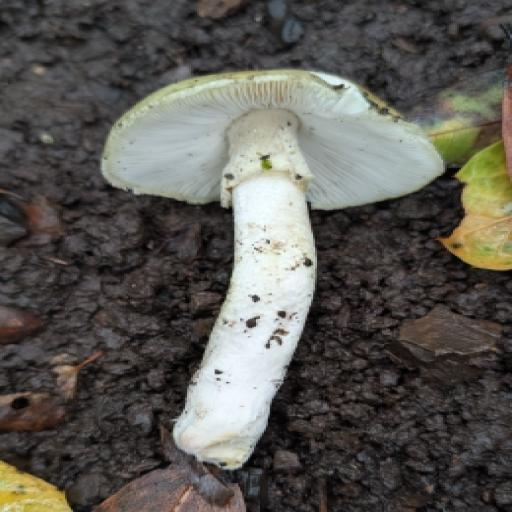mushroom: (0, 0, 453, 481)
